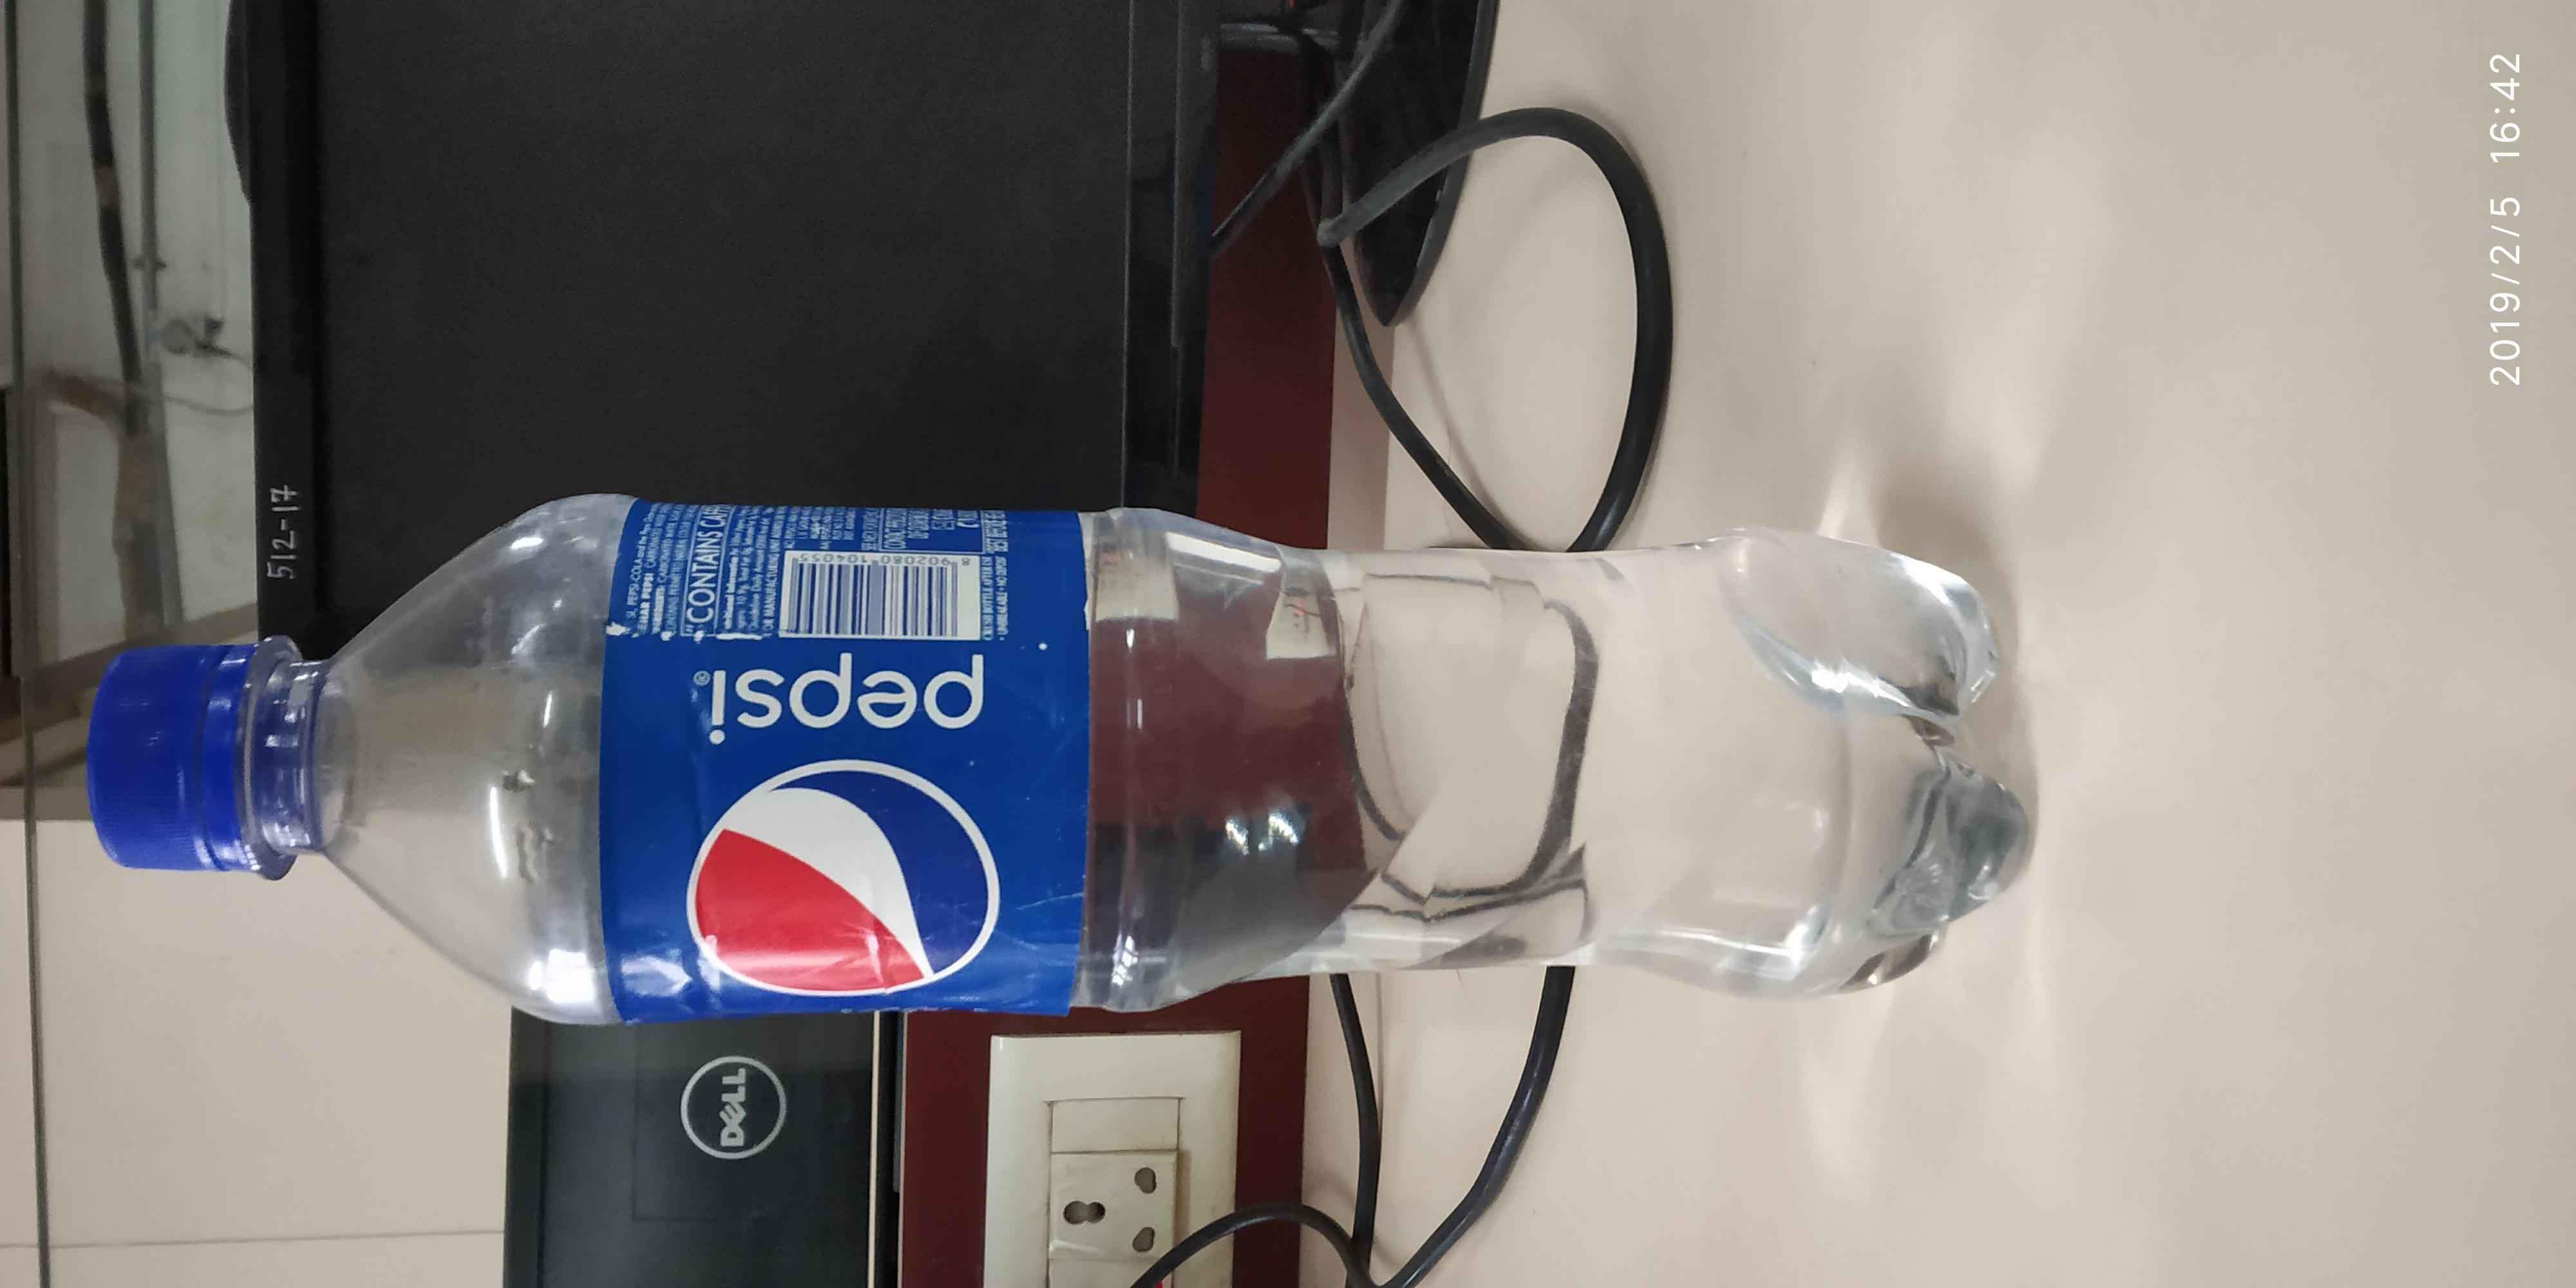pepsi: (667, 647, 1012, 984)
